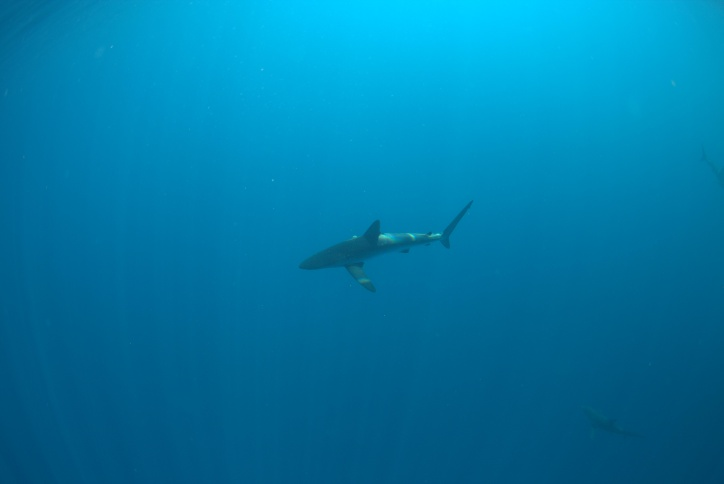Sedoso: (291, 199, 483, 290)
